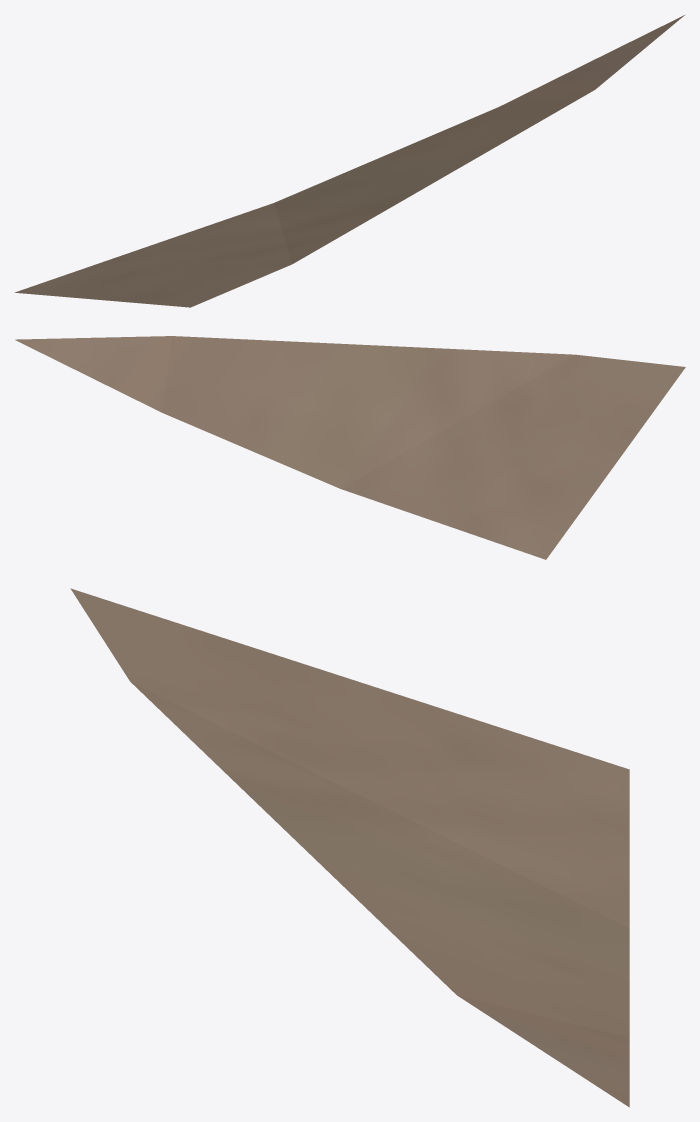
The picture shows the model from 3 angles, top to bottom: view 1: azimuth 30°, elevation 25°; view 2: azimuth 150°, elevation 25°; view 3: azimuth 270°, elevation 25°; orthographic projection. The views are drawn at different scales.
Bounding box in the file's own units: 0.0737 × 0.012 × 0.0336.
Materials: 1 (1 with a texture image).
